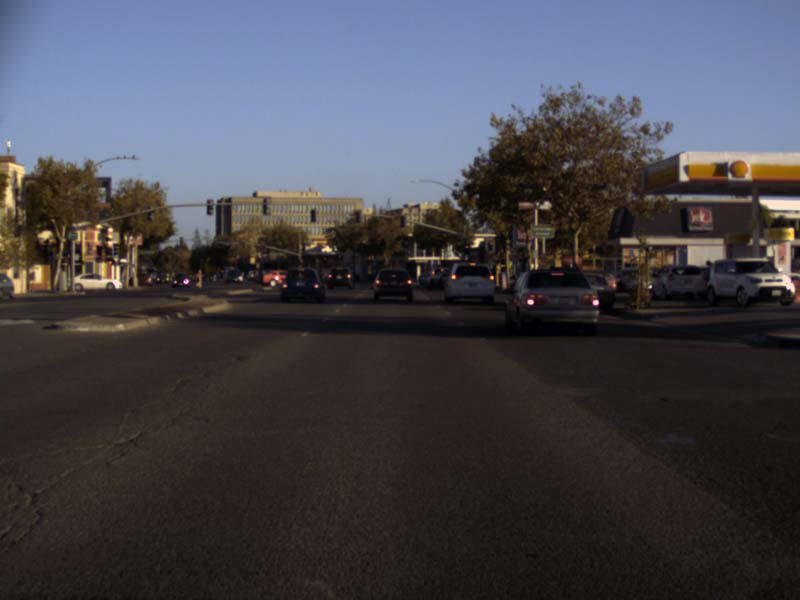Red: (463, 243, 469, 253), (487, 240, 492, 250)
